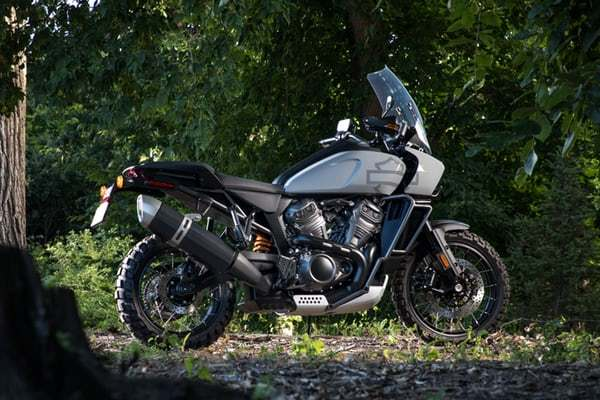22_label: (88, 49, 524, 349)
